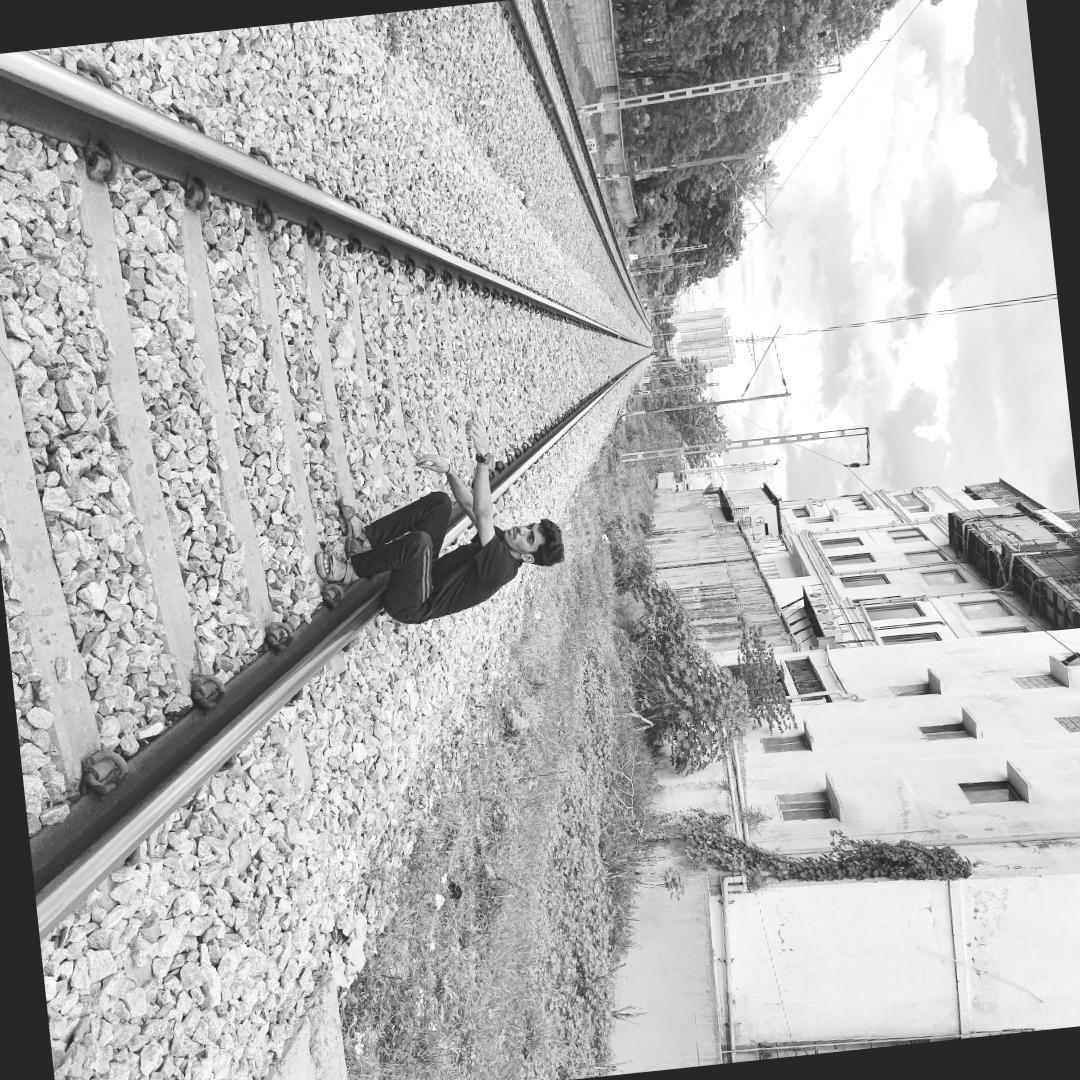sitting: (310, 475, 578, 643)
